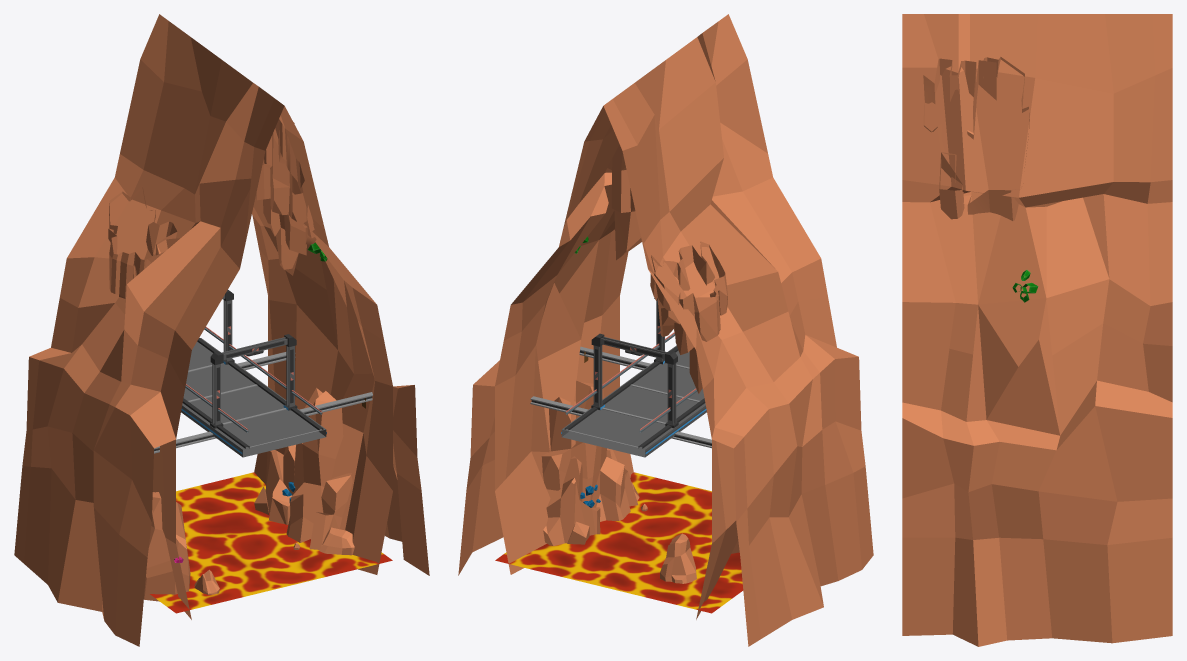
Rendered from Cavern_Straight_Tunnel.fbx.
3 renders of one model, left to right at view 1: azimuth 30°, elevation 25°; view 2: azimuth 150°, elevation 25°; view 3: azimuth 270°, elevation 25°, orthographic. The views are drawn at different scales.
Visible parts, largest first — view 1: Cavern_Straight_Tunnel, Cavern_Straight_Tunnel_W, Cavern_Straight_Tunnel_E, Cavern_Straight_Tunnel_Walkway; view 2: Cavern_Straight_Tunnel, Cavern_Straight_Tunnel_W, Cavern_Straight_Tunnel_E, Cavern_Straight_Tunnel_Walkway; view 3: Cavern_Straight_Tunnel_E, Cavern_Straight_Tunnel.
Part boxes in pixels (<box>): Cavern_Straight_Tunnel: <box>14,296,429,646</box>; Cavern_Straight_Tunnel_W: <box>51,14,284,438</box>; Cavern_Straight_Tunnel_E: <box>252,106,392,386</box>; Cavern_Straight_Tunnel_Walkway: <box>154,290,372,457</box>; Cavern_Straight_Tunnel: <box>458,295,873,646</box>; Cavern_Straight_Tunnel_W: <box>603,14,836,438</box>; Cavern_Straight_Tunnel_E: <box>495,106,641,385</box>; Cavern_Straight_Tunnel_Walkway: <box>530,298,711,457</box>; Cavern_Straight_Tunnel_E: <box>902,14,1172,435</box>; Cavern_Straight_Tunnel: <box>902,380,1172,646</box>.
Size of the model in its own units: 1960 by 2897 by 1300.
